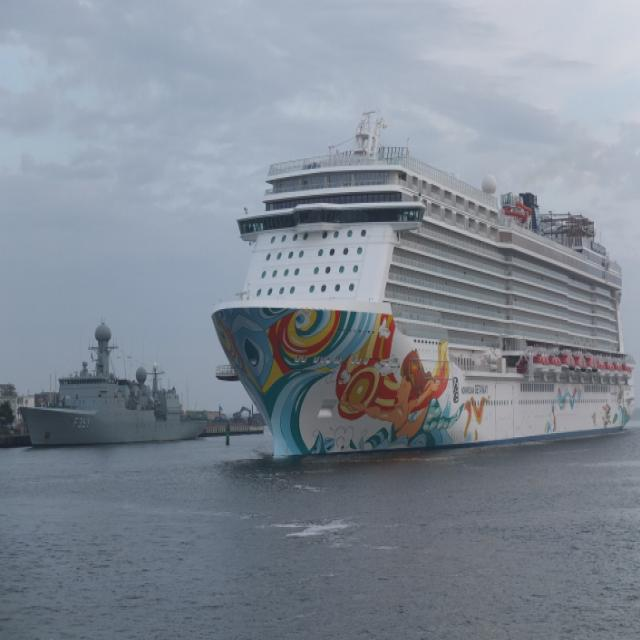cruises: (203, 118, 638, 461)
